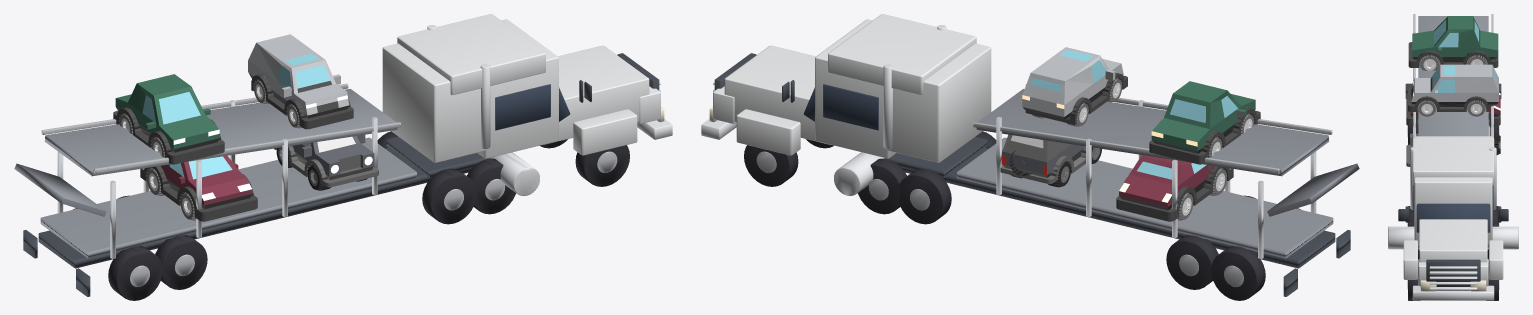
Rendered from hauler.glb.
3 views of the same model, side by side, from view 1: azimuth 30°, elevation 25°; view 2: azimuth 150°, elevation 25°; view 3: azimuth 270°, elevation 25° (orthographic). The views are drawn at different scales.
Parts seen in each view (by area): view 1: Hauler; view 2: Hauler; view 3: Hauler.
Boxes of the visible parts, x1,y1,x2,y2 form: Hauler: [14, 14, 672, 300]; Hauler: [701, 14, 1359, 300]; Hauler: [1388, 14, 1518, 300].
Size of the model in its own units: 16.26 by 4.48 by 4.1.
